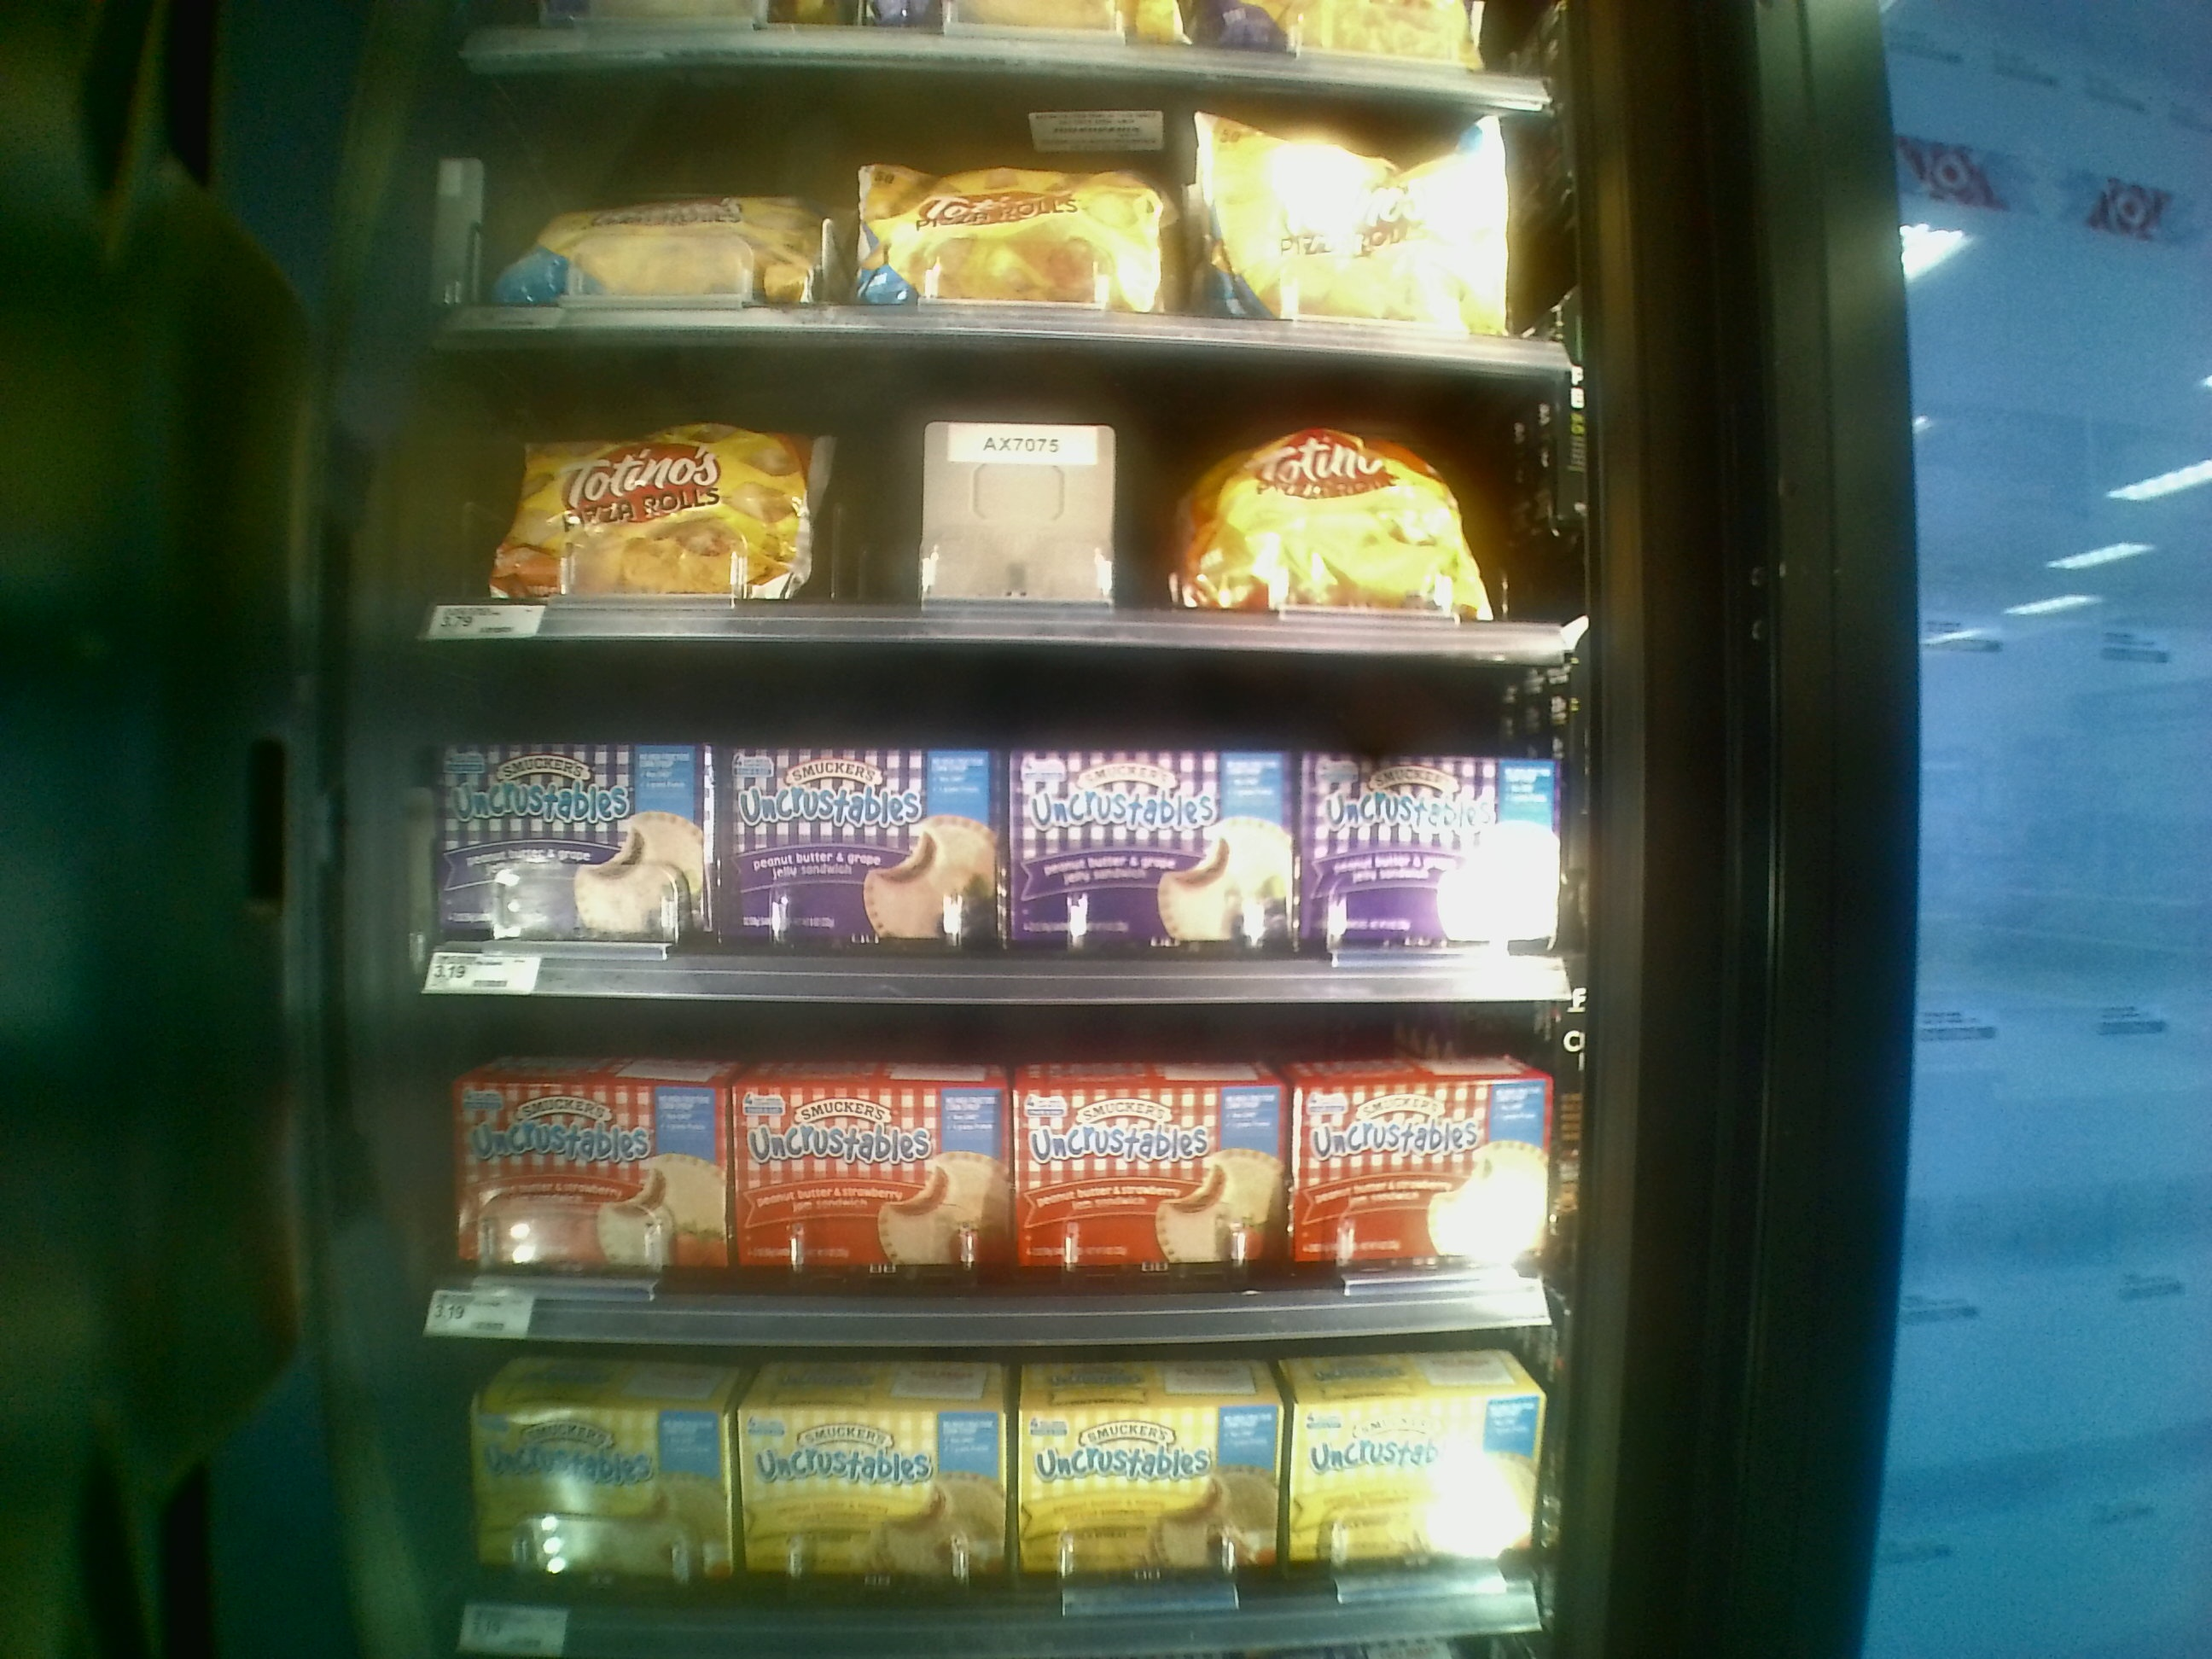shelf: (408, 945, 1583, 1328), (409, 619, 1576, 995), (432, 321, 1583, 652)
